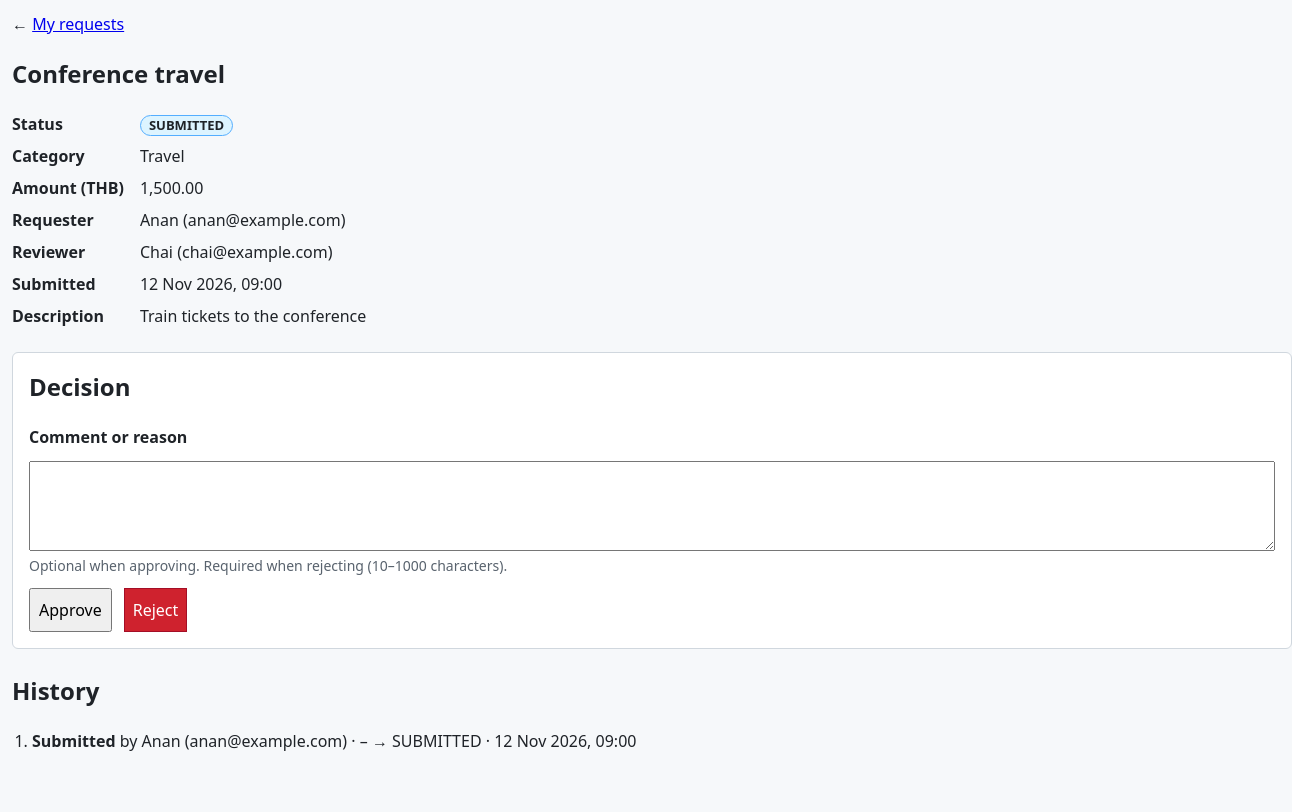
Scenario: RequestDetailPage decisions (F-04b) › rejects with the trimmed reason
The width and height of the screenshot is (1292, 812).
Check: the element "Decision" is shown, box [12,352,1291,649]
Type "  Missing the receipt  " into the text box labelled "Comment or reason" at (652, 506), box [29,461,1275,551]
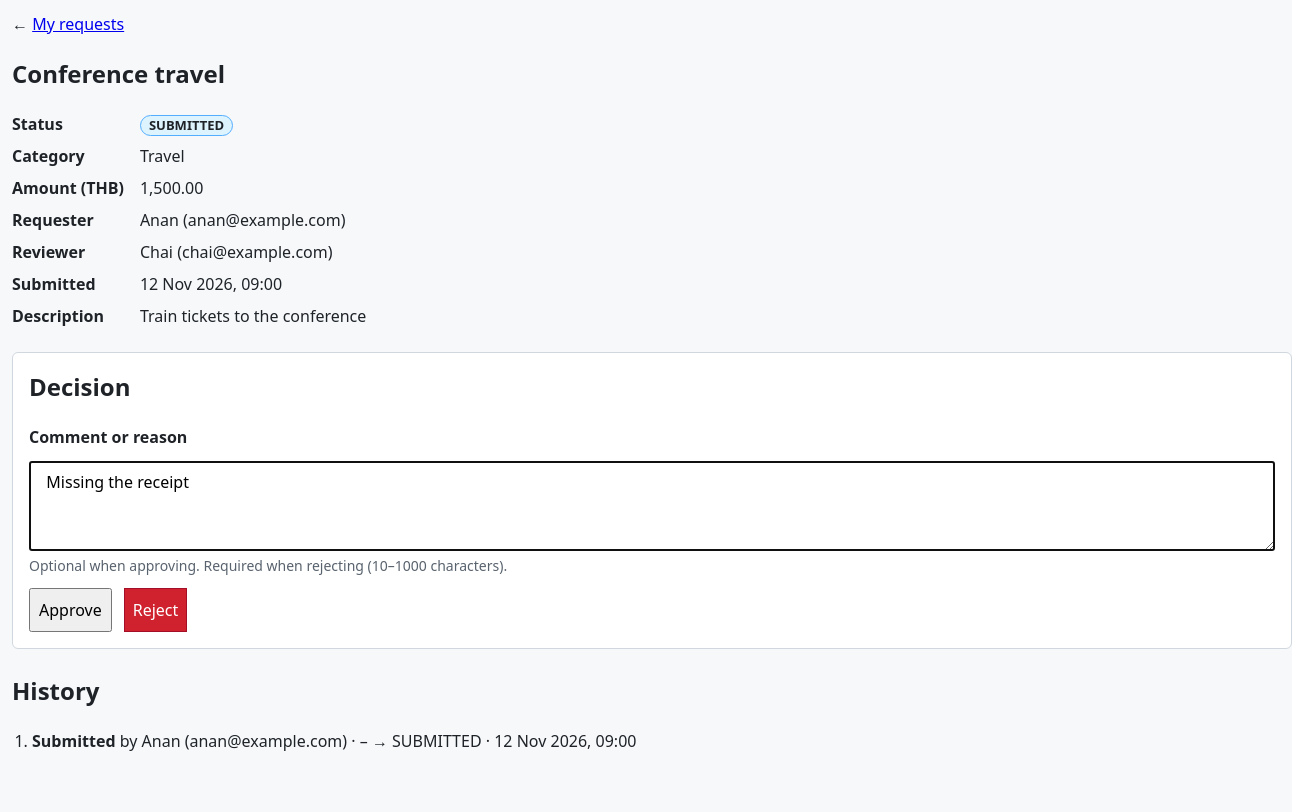
Click the button "Reject" at (156, 610), box [124,588,187,632]
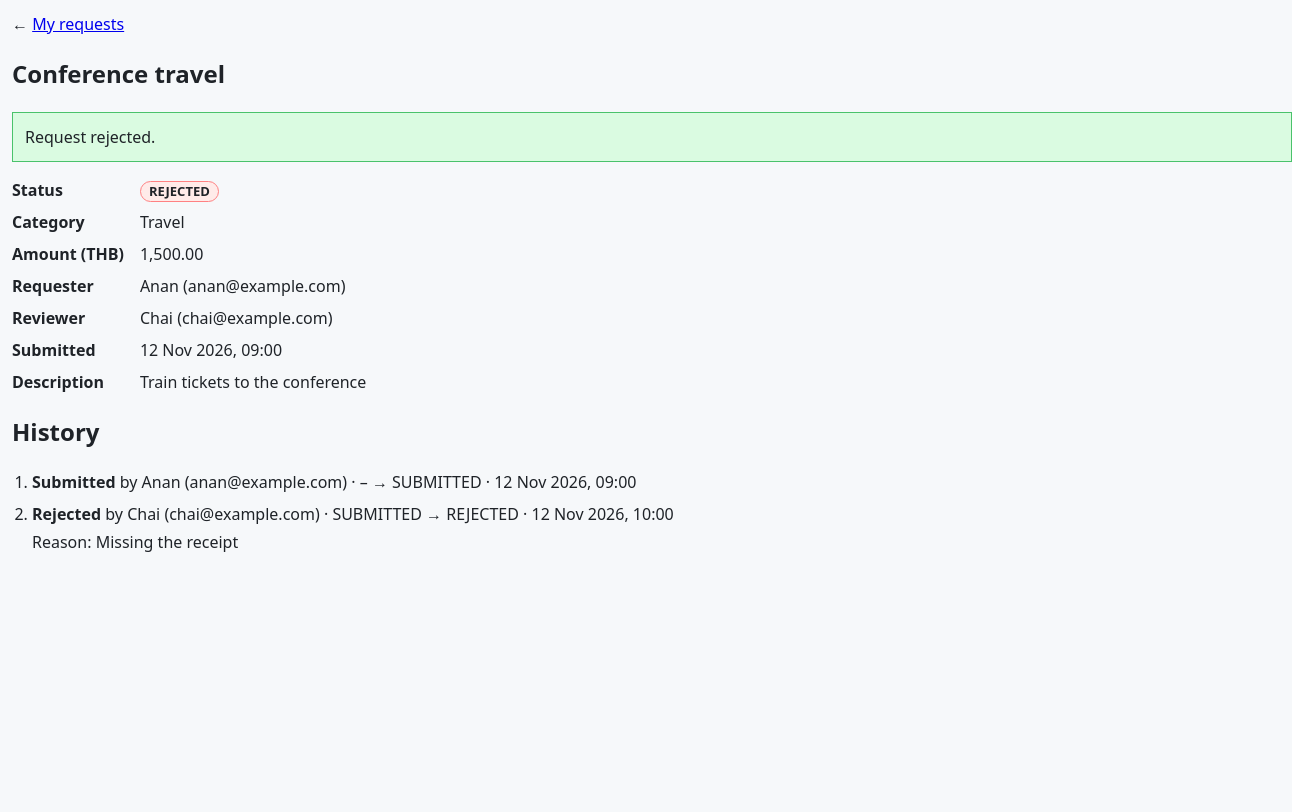
Check: the message reads "Request rejected.", box [25,126,155,148]
Check: the element named "Request details" shows "REJECTED", box [149,182,210,200]
Check: the list item that starts with "Rejected" shows "Reason: Missing the receipt", box [32,503,674,553]
